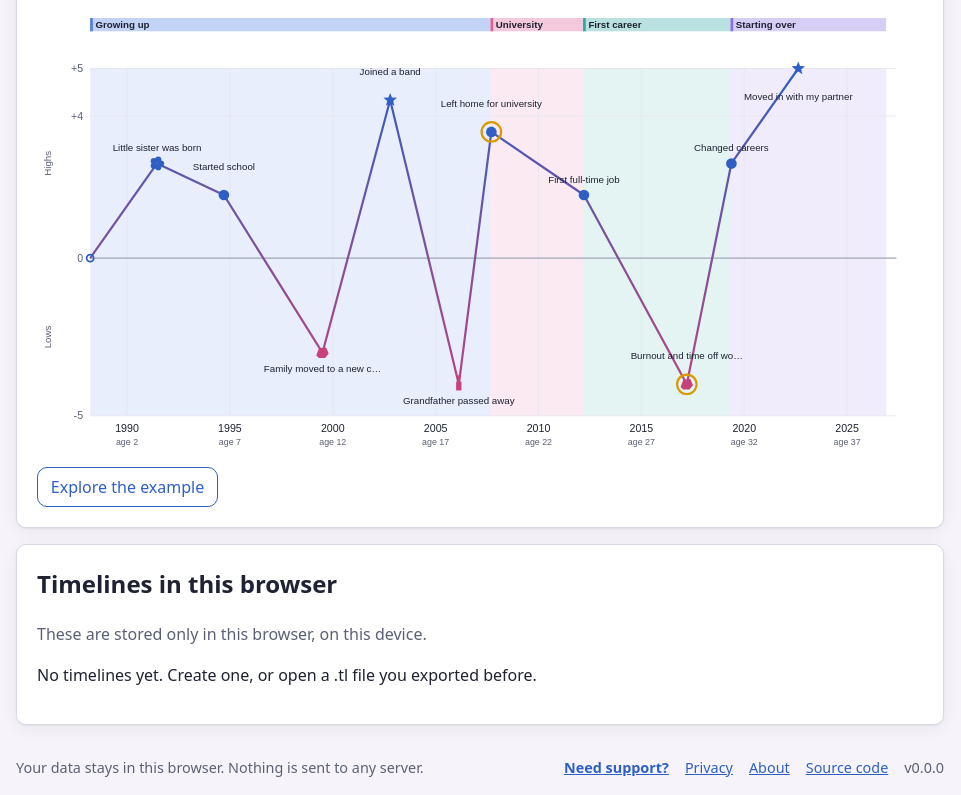
Scenario: example timeline › is read-only until copied, and the copy is independent
(page scrolled)
What coordinates should you click on to do the following:
click the button "Explore the example"
I would click on:
 (128, 487)
Its box is [37,467,218,507].
(page scrolled)
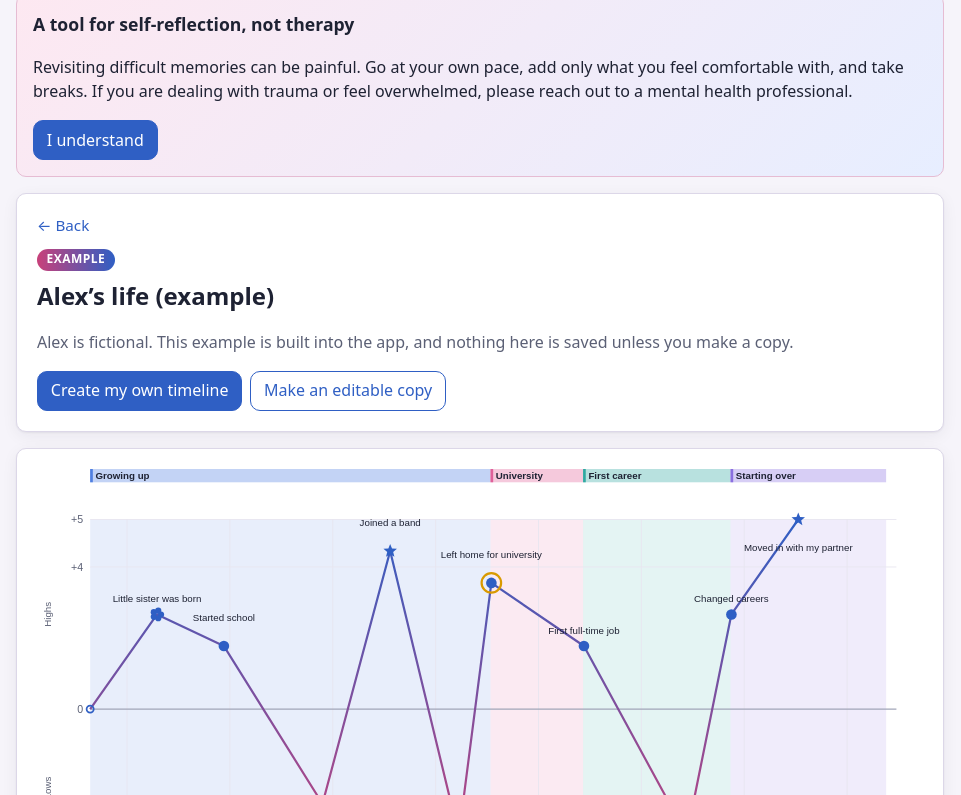
Expected: the button "+ Add event" is not shown
What coordinates should you click on to do the following:
click the button "Make an editable copy"
I would click on:
 (348, 391)
Its box is [250,371,446,411].
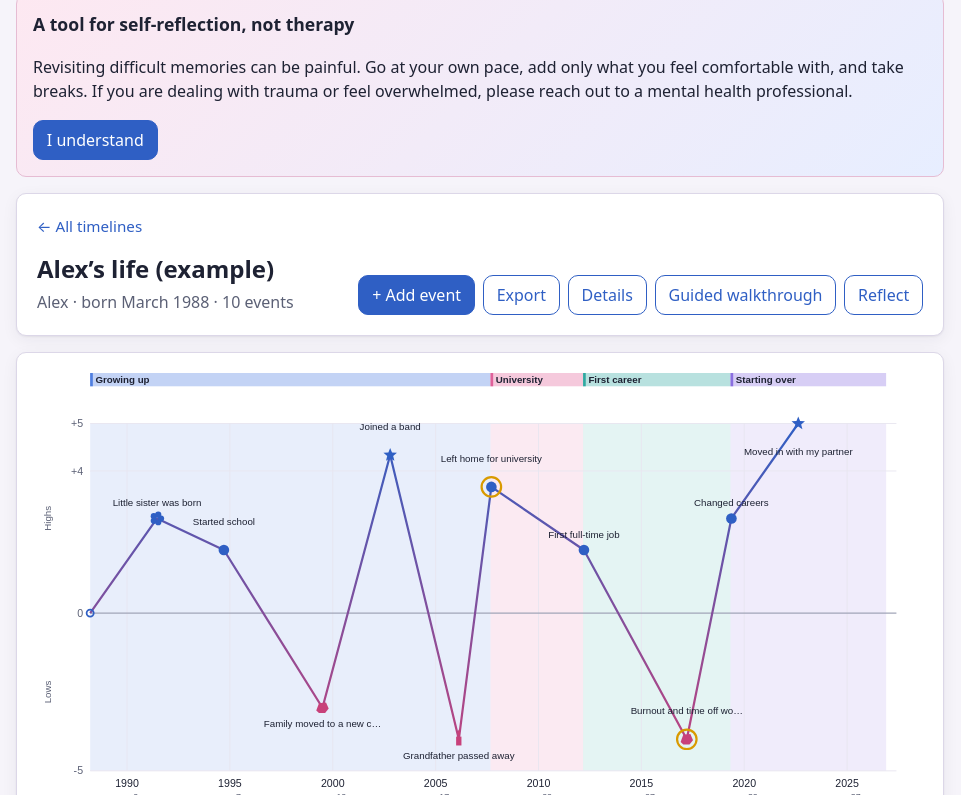
Now the button "+ Add event" is shown, box [358,275,475,315]
